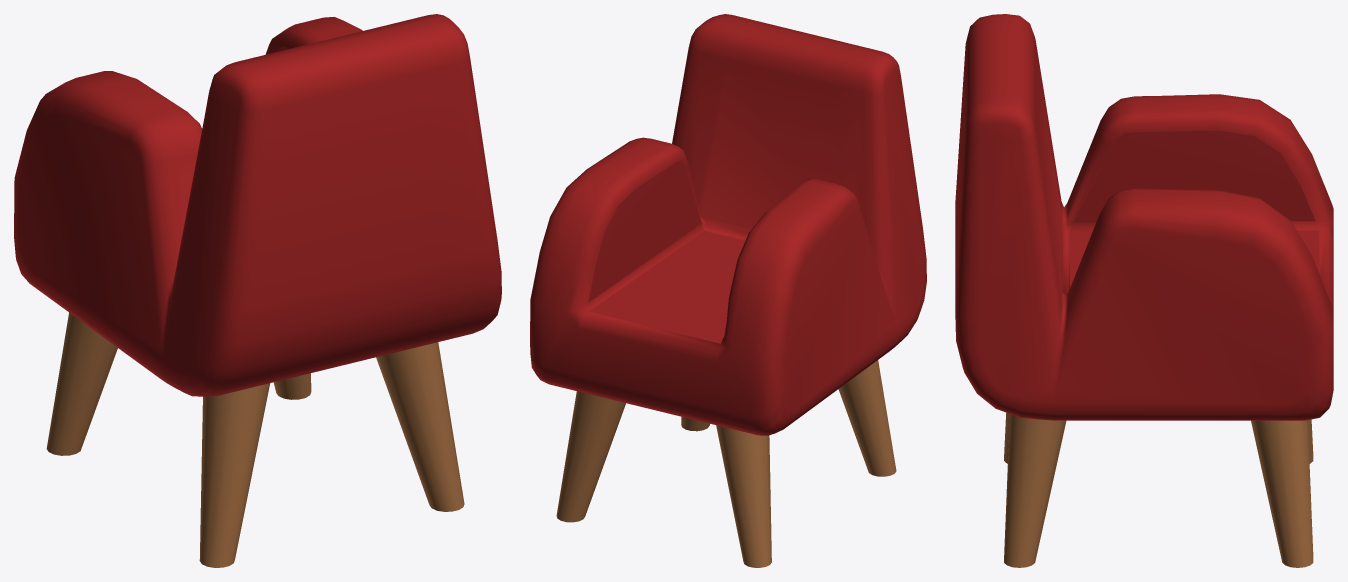
File: Сhair.FBX
The picture shows the model from 3 angles, left to right: view 1: azimuth 30°, elevation 25°; view 2: azimuth 150°, elevation 25°; view 3: azimuth 270°, elevation 25°; orthographic projection. The views are drawn at different scales.
Visible parts, largest first — view 1: Сhair; view 2: Сhair; view 3: Сhair.
Part boxes in pixels (bbox=[...]): Сhair: bbox=[14, 14, 501, 567]; Сhair: bbox=[530, 14, 926, 567]; Сhair: bbox=[955, 14, 1333, 567].
Size of the model in its own units: 14.35 by 22.09 by 16.8.
